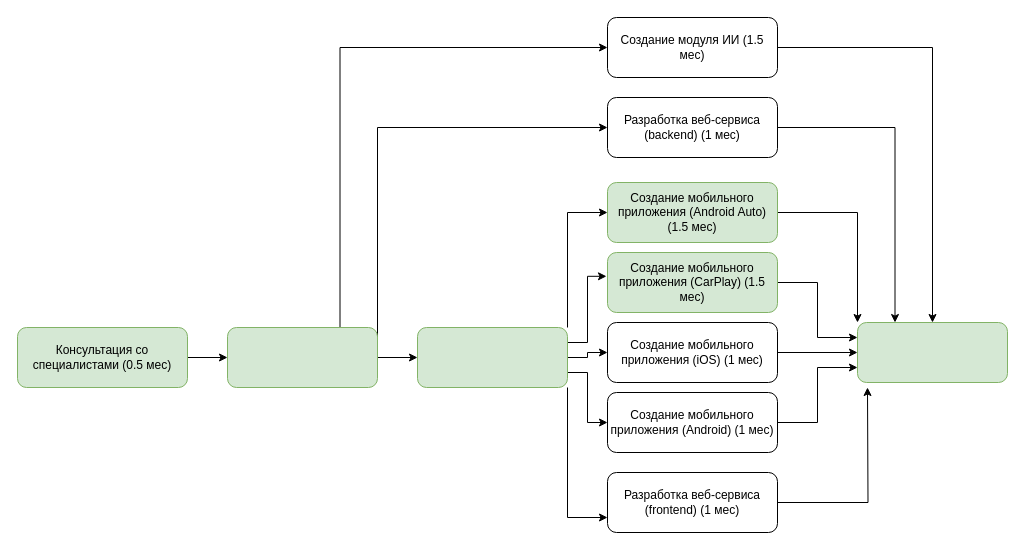
Image size: 1025x550. Some labels were removed from this diagram. Here are the shapes that lost their labels. From the top down, the centre of each, then its label:
At pixel 302 357: "Проектирование архитектуры (1 мес)".
At pixel 492 357: "Разработка дизайна (0.5 мес)".
At pixel 932 352: "Тестирование и введение в эксплутацию (0.5 мес)".
